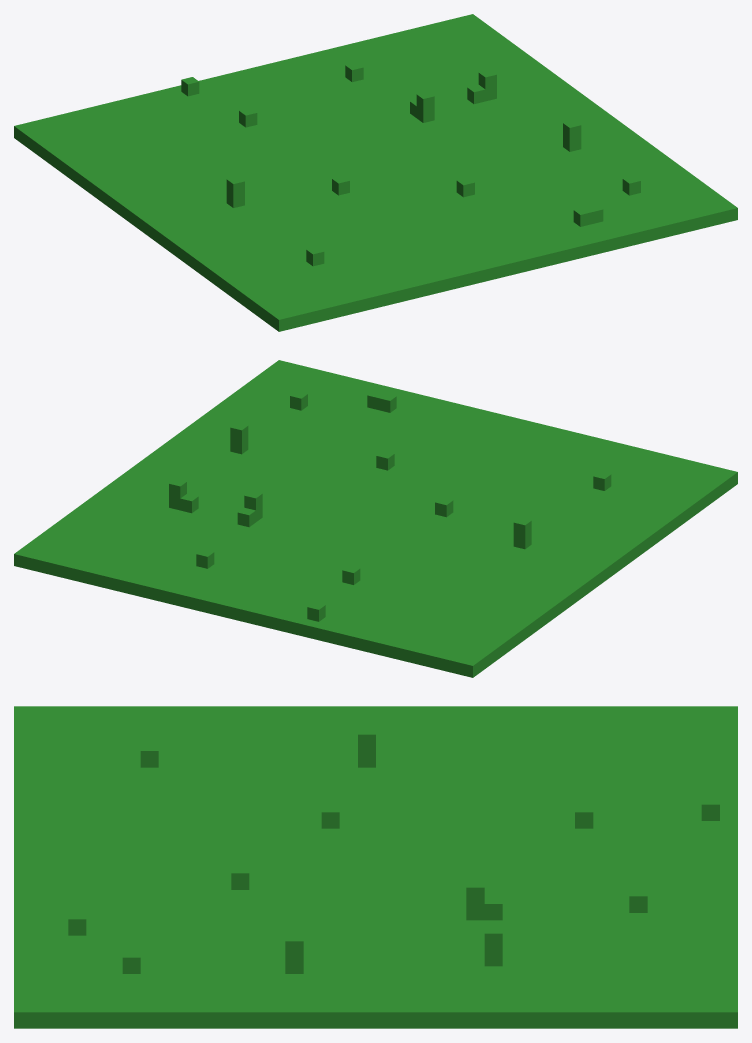
The model's file is flores_04.fbx.
3 views of the same model, one above another, from view 1: azimuth 30°, elevation 25°; view 2: azimuth 150°, elevation 25°; view 3: azimuth 270°, elevation 25° (orthographic). The views are drawn at different scales.
Visible parts, largest first — view 1: flores_04; view 2: flores_04; view 3: flores_04.
Part boxes in pixels (x1,y1,x2,y2): flores_04: (14,14,737,331); flores_04: (14,360,737,677); flores_04: (14,706,737,1028).
Bounding box in the file's own units: 400 × 30 × 400.
1 material, 1 textured.
